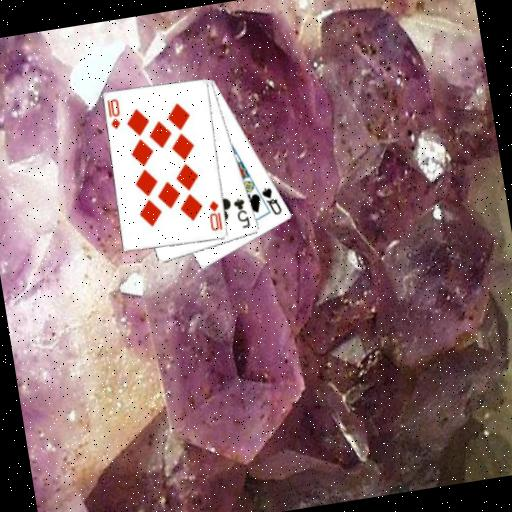10D: (104, 95, 124, 132), (204, 197, 224, 233)
5C: (230, 195, 253, 231)
QS: (257, 182, 284, 219)
